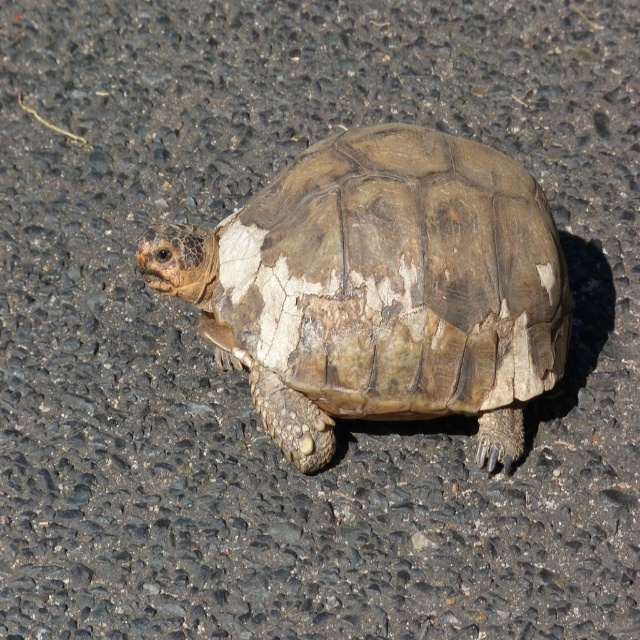Sea turtle: (134, 118, 576, 482)
